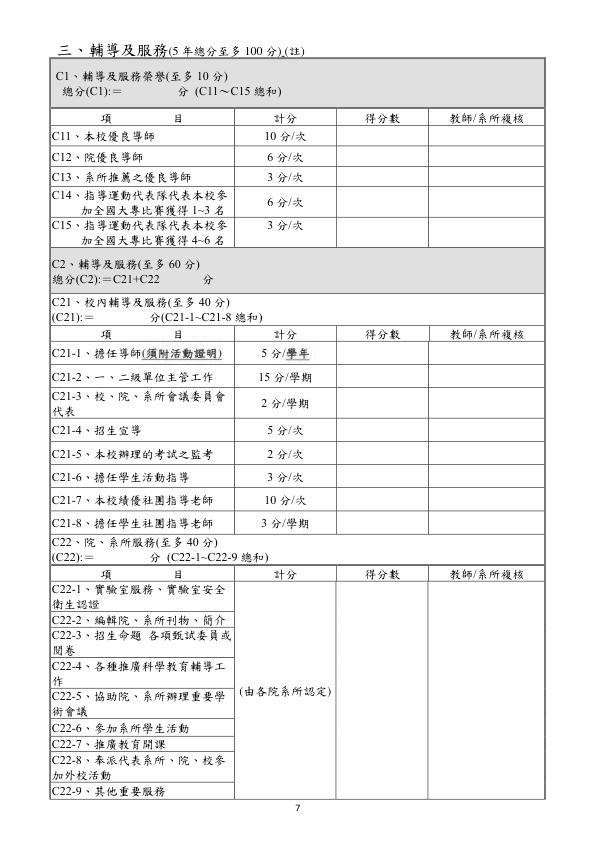table: (45, 56, 557, 804)
text: (54, 40, 309, 56)
